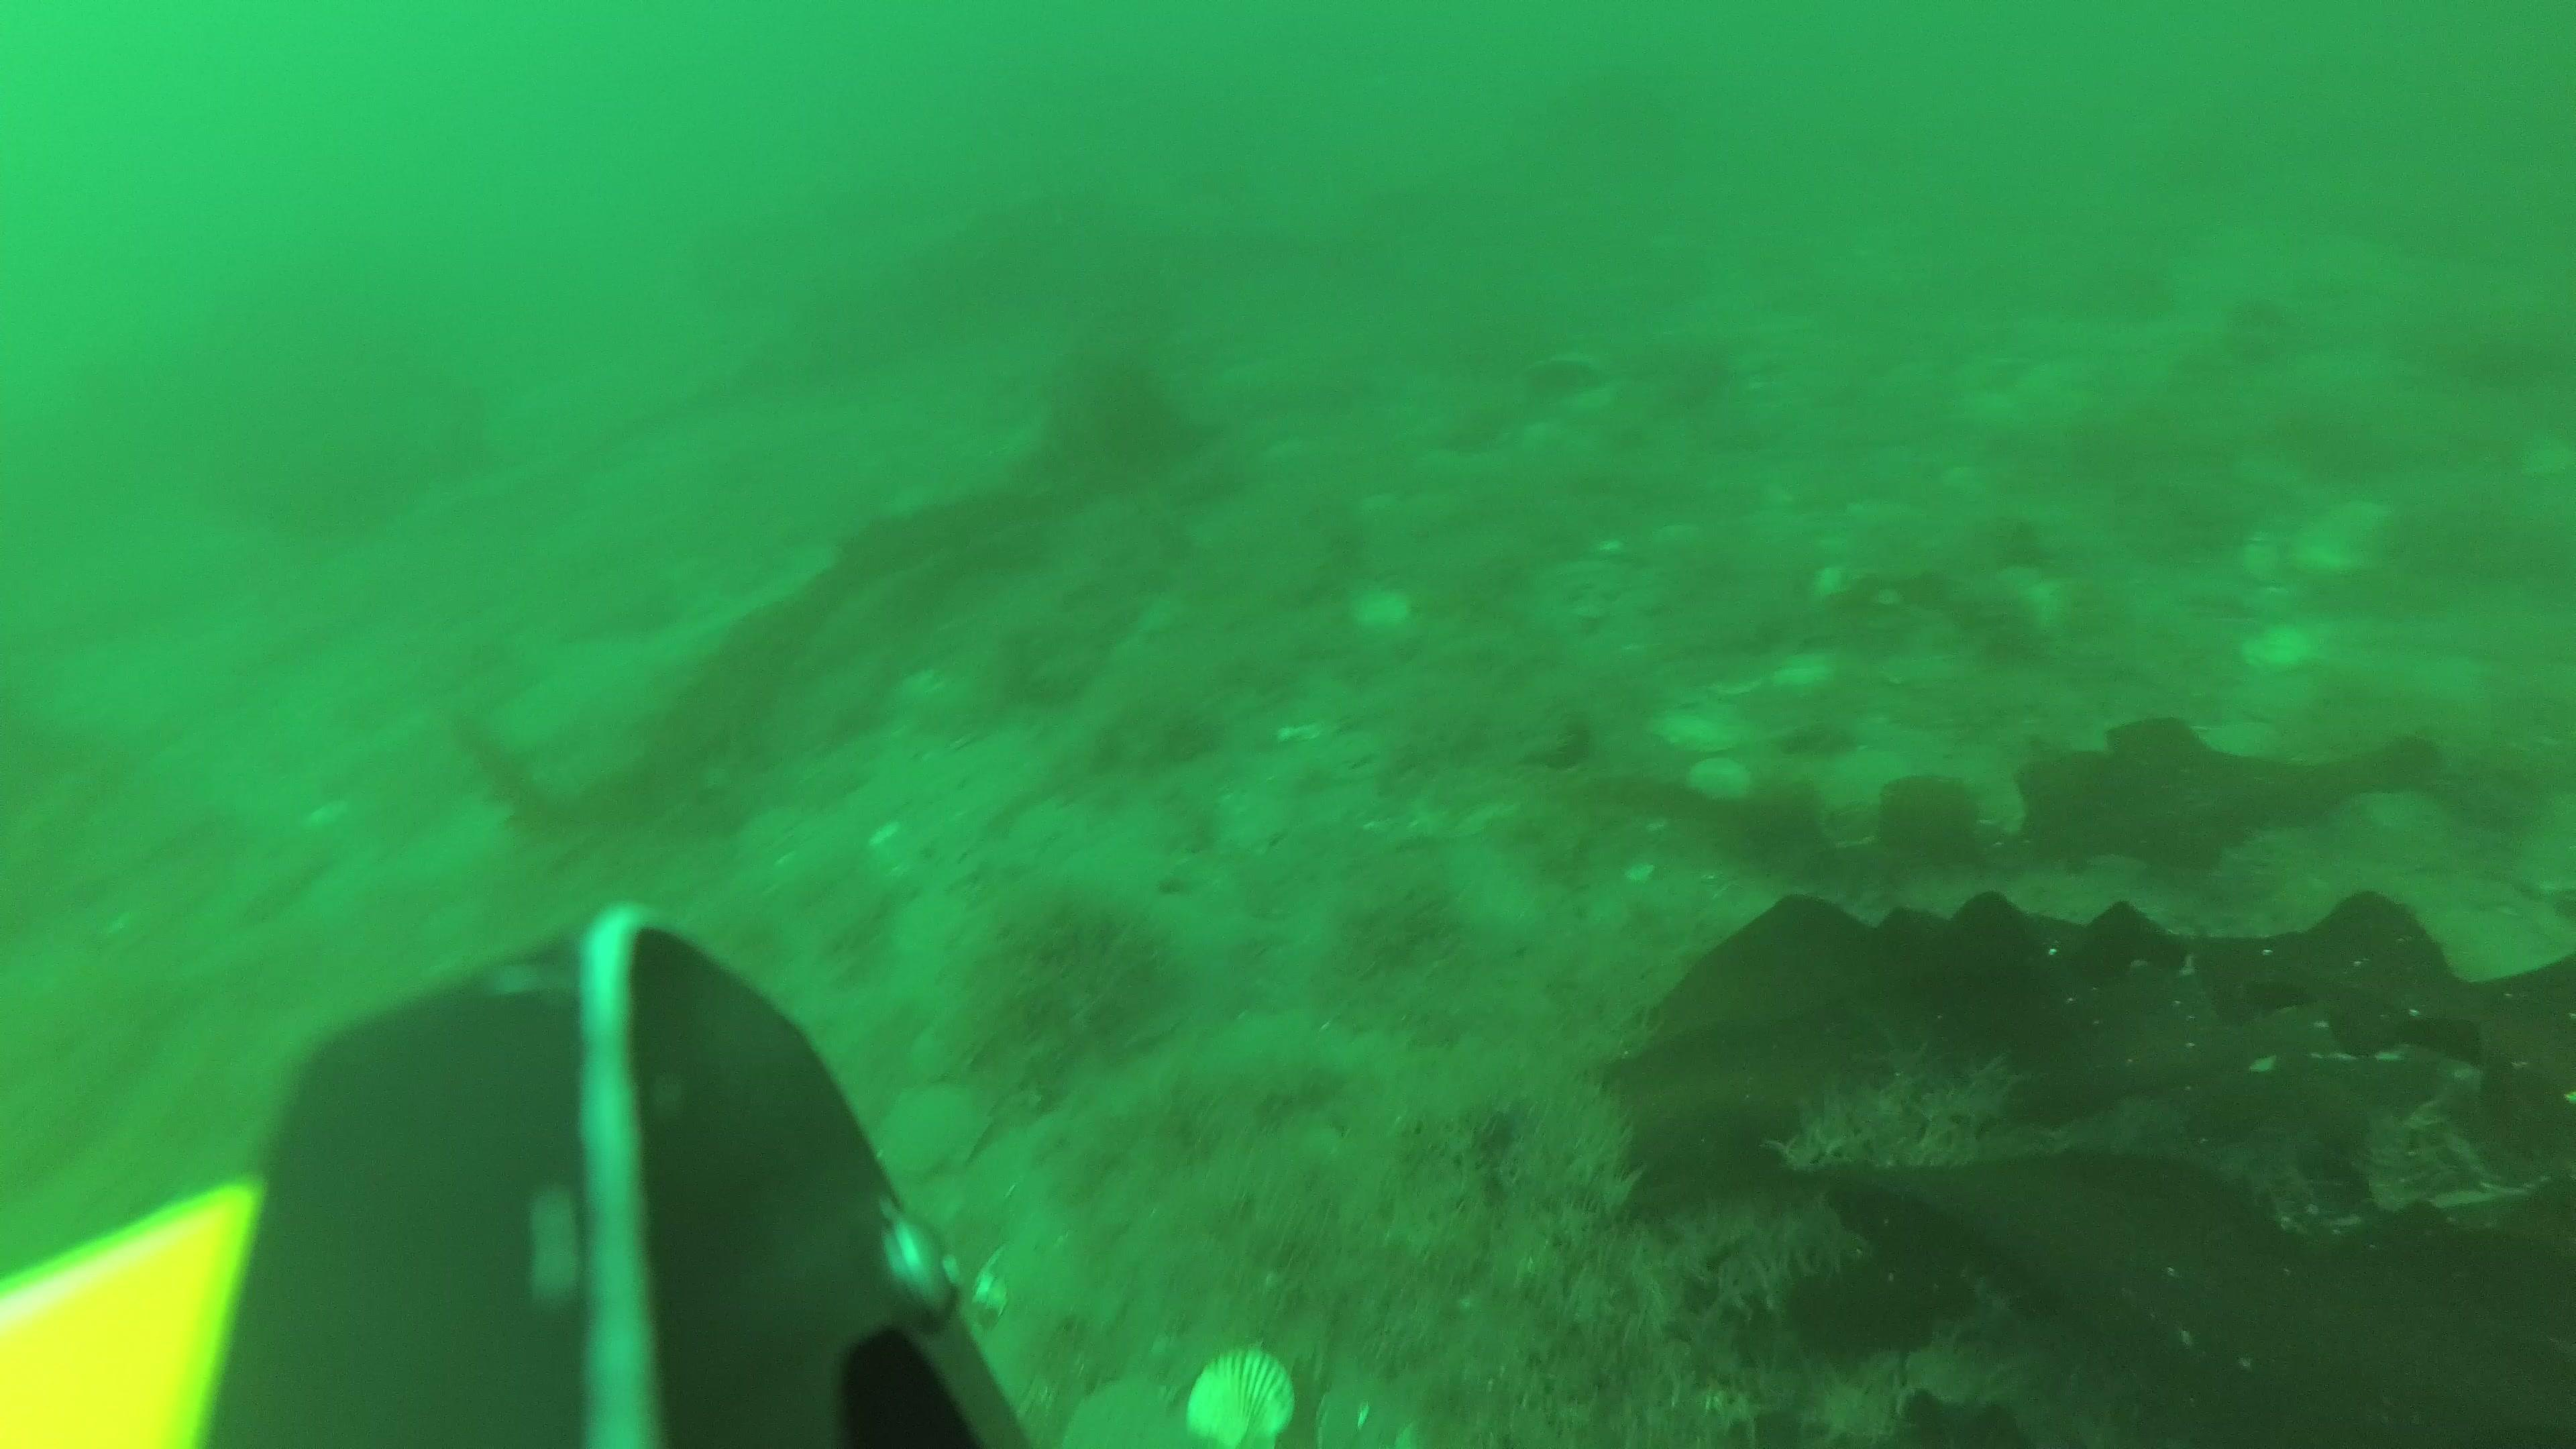scallop: (870, 1079, 1005, 1185), (1189, 1343, 1304, 1449), (1049, 1375, 1182, 1449), (2224, 617, 2334, 683), (1205, 786, 1295, 862), (901, 1007, 989, 1079), (1640, 701, 1744, 757), (1338, 582, 1417, 642), (1686, 757, 1757, 801)
